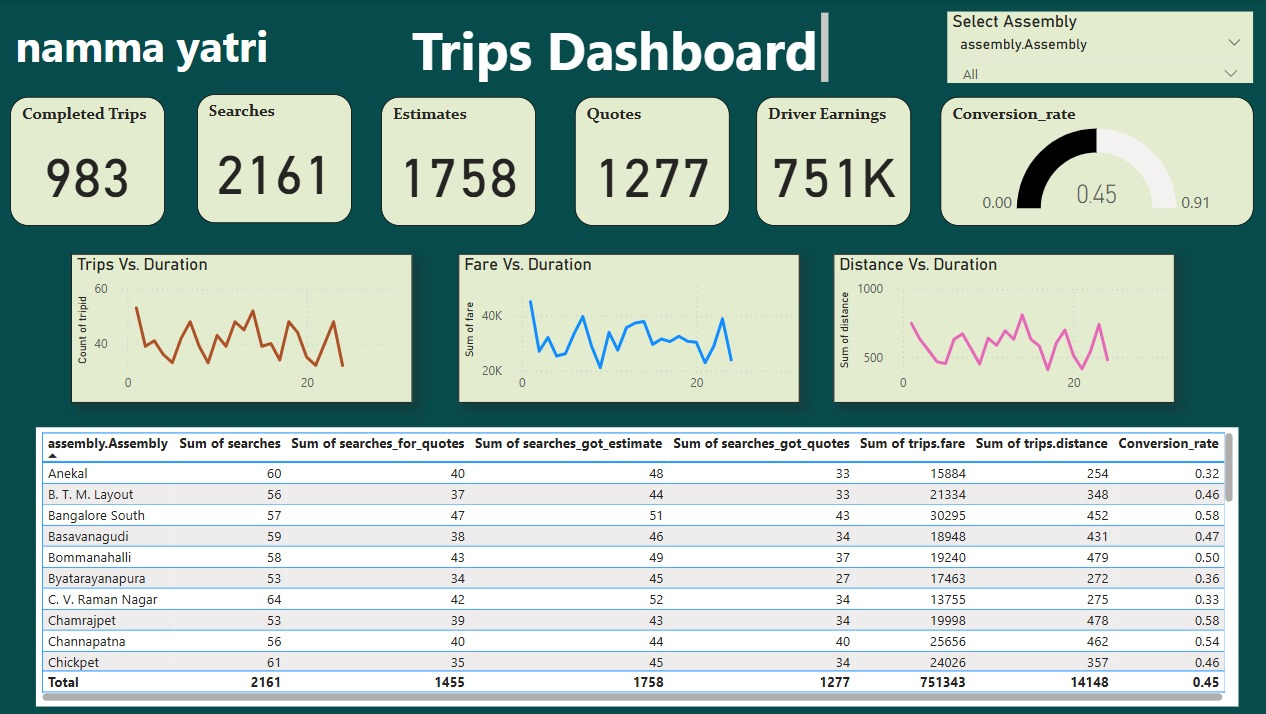

The dashboard page shown, as its layout file describes it:
{"tool":"powerbi","page":{"name":"Page 1","canvas":[1280,720],"ordinal":0},"visuals":[{"type":"card","title":"Completed Trips","fields":{"Values":["Sum(trip_details.end_ride)"]},"box":[12.2,99.1,154.7,128.9],"z":0},{"type":"card","title":"Quotes","fields":{"Values":["Sum(trip_details.searches_got_quotes)"]},"box":[578.1,99.1,154.7,128.9],"z":1000},{"type":"card","title":"Estimates","fields":{"Values":["Sum(trip_details.searches_got_estimate)"]},"box":[384.1,99.1,154.7,128.9],"z":2000},{"type":"card","title":"Searches","fields":{"Values":["Sum(trip_details.searches)"]},"box":[199.5,96.4,154.7,128.9],"z":3000},{"type":"card","title":"Driver Earnings","fields":{"Values":["Sum(trips.fare)"]},"box":[760,99.1,154.7,128.9],"z":4000},{"type":"gauge","fields":{"Y":["trip_details.Conversion_rate"]},"box":[944.5,99.1,313.5,128.9],"z":5000},{"type":"lineChart","title":"Trips Vs. Duration","fields":{"Category":["trips.duration"],"Y":["CountNonNull(trips.tripid)"]},"box":[73.3,256.5,342,149.3],"z":6000},{"type":"lineChart","title":"Fare Vs. Duration","fields":{"Category":["trips.duration"],"Y":["Sum(trips.fare)"]},"box":[461.4,256.5,342,149.3],"z":7000},{"type":"lineChart","title":"Distance Vs. Duration","fields":{"Category":["trips.duration"],"Y":["Sum(trips.distance)"]},"box":[837.3,256.5,342,149.3],"z":8000},{"type":"tableEx","fields":{"Values":["Merge2.assembly.Assembly","Sum(Merge2.searches)","Sum(Merge2.searches_for_quotes)","Sum(Merge2.searches_got_estimate)","Sum(Merge2.searches_got_quotes)","Sum(Merge2.trips.fare)","Sum(Merge2.trips.distance)","trip_details.Conversion_rate"]},"box":[38,430.2,1205.1,279.6],"z":9000},{"type":"textbox","box":[409.8,9.5,427.5,80.1],"z":10000},{"type":"slicer","title":"Select Assembly","fields":{"Values":["Merge2.assembly.Assembly"]},"box":[951.3,13.6,306.7,71.9],"z":11000},{"type":"textbox","box":[12.2,13.6,275.5,80.1],"z":11001}]}

Visuals, with their boxes in screenshot pixels (x1, y1, x2, y2), scaled from the page's 1280x720 canvas onto the 1266x714 screenshot:
"Completed Trips" card: 12:98:165:226
"Quotes" card: 572:98:725:226
"Estimates" card: 380:98:533:226
"Searches" card: 197:96:350:223
"Driver Earnings" card: 752:98:905:226
gauge - trip_details.Conversion_rate: 934:98:1244:226
"Trips Vs. Duration" lineChart: 72:254:411:402
"Fare Vs. Duration" lineChart: 456:254:795:402
"Distance Vs. Duration" lineChart: 828:254:1166:402
tableEx - Merge2.assembly.Assembly x Sum(Merge2.searches): 38:427:1230:704
textbox: 405:9:828:89
"Select Assembly" slicer: 941:13:1244:85
textbox: 12:13:285:93
